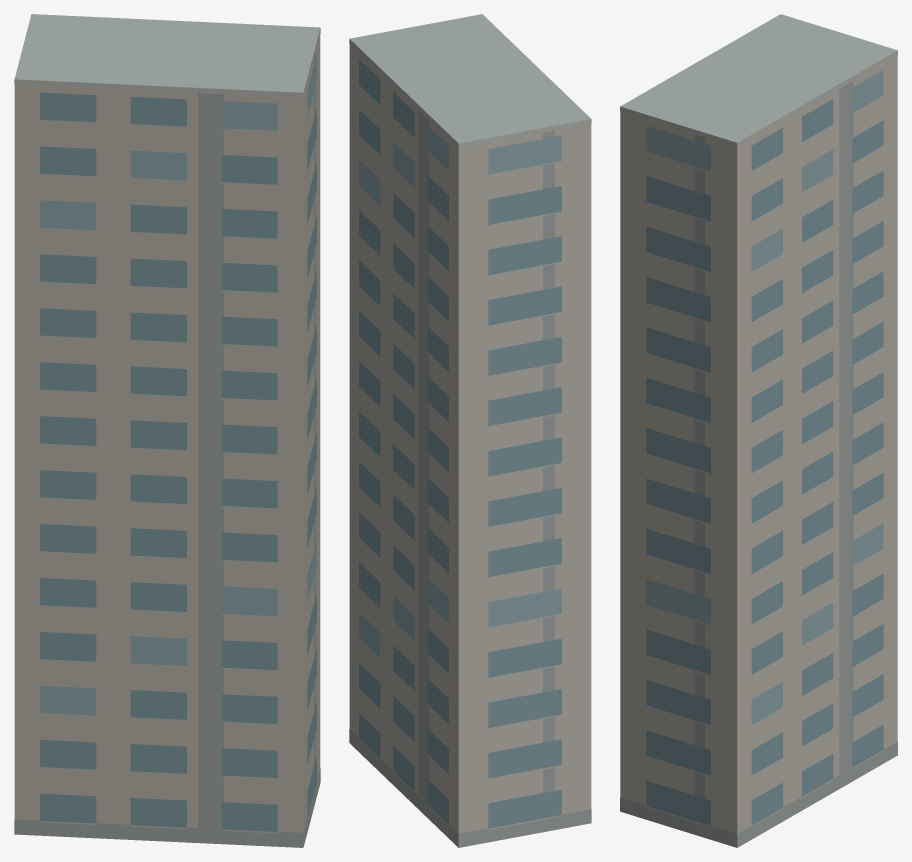
The model's file is residential-35abbc15-49ac-4355-a80d-fcf1cea501e7.glb.
3 views of the same model, side by side, from view 1: azimuth 30°, elevation 25°; view 2: azimuth 150°, elevation 25°; view 3: azimuth 270°, elevation 25° (orthographic). The views are drawn at different scales.
Parts seen in each view (by area): view 1: residential-35abbc15-49ac-4355-a80d-fcf1cea501e7.tmp; view 2: residential-35abbc15-49ac-4355-a80d-fcf1cea501e7.tmp; view 3: residential-35abbc15-49ac-4355-a80d-fcf1cea501e7.tmp.
Part boxes in pixels (x1,y1,x2,y2): residential-35abbc15-49ac-4355-a80d-fcf1cea501e7.tmp: (14,14,320,847); residential-35abbc15-49ac-4355-a80d-fcf1cea501e7.tmp: (349,14,591,847); residential-35abbc15-49ac-4355-a80d-fcf1cea501e7.tmp: (620,14,897,847).
Bounding box in the file's own units: 13.72 × 35 × 12.5.
